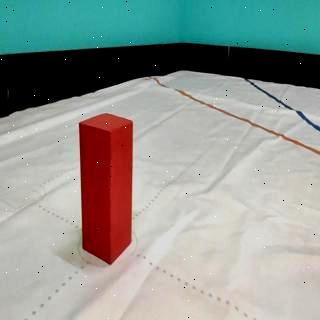redbox: (78, 112, 134, 266)
